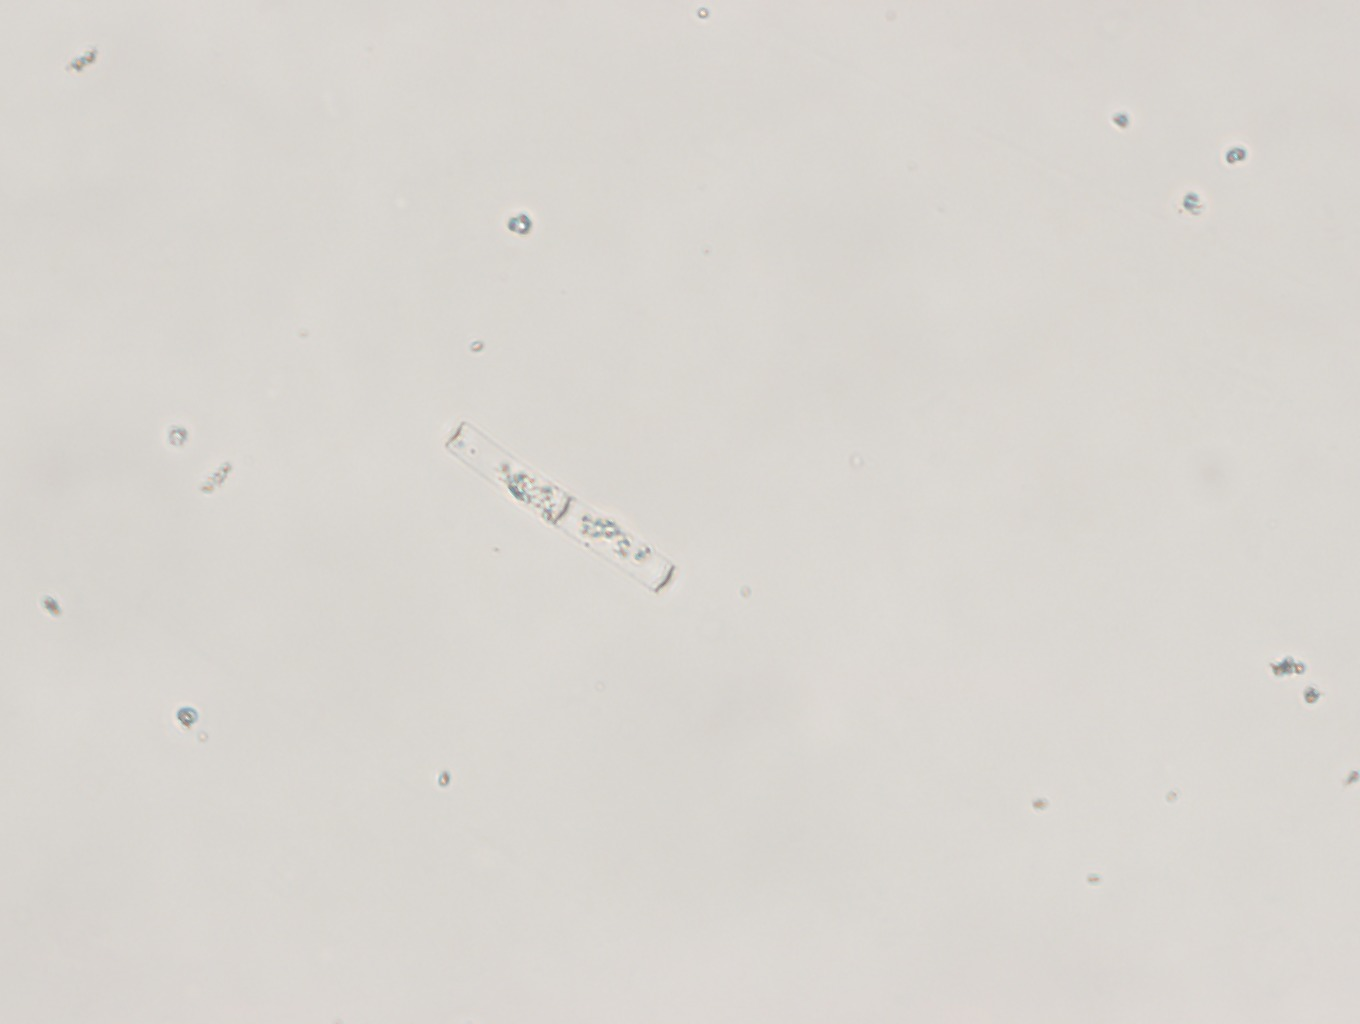guinardia flaccida: (430, 412, 688, 612)
